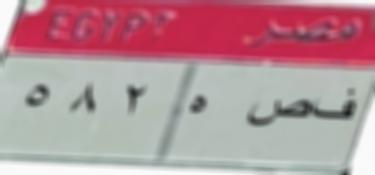2: (117, 77, 152, 124)
5: (20, 75, 53, 116)
8: (65, 78, 100, 120)
faa: (313, 86, 358, 126)
haa: (186, 90, 210, 119)
saad: (243, 92, 312, 132)
